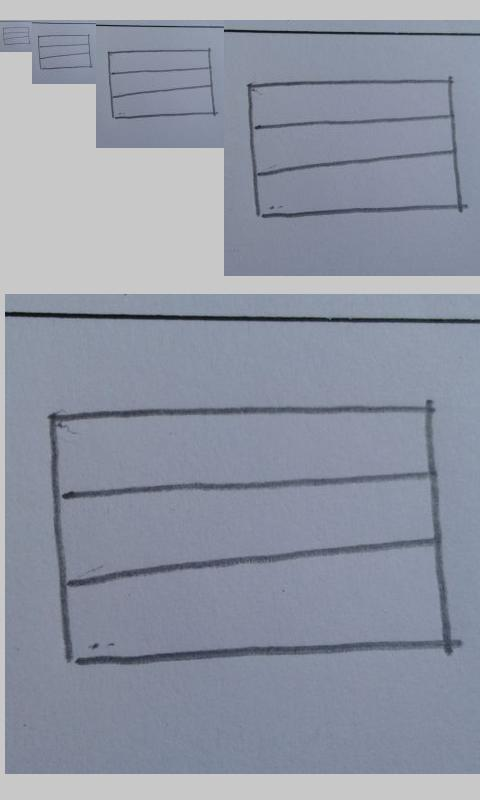list_view: (46, 403, 454, 673), (244, 74, 464, 220), (107, 49, 216, 119), (36, 34, 93, 70), (2, 26, 31, 46)
